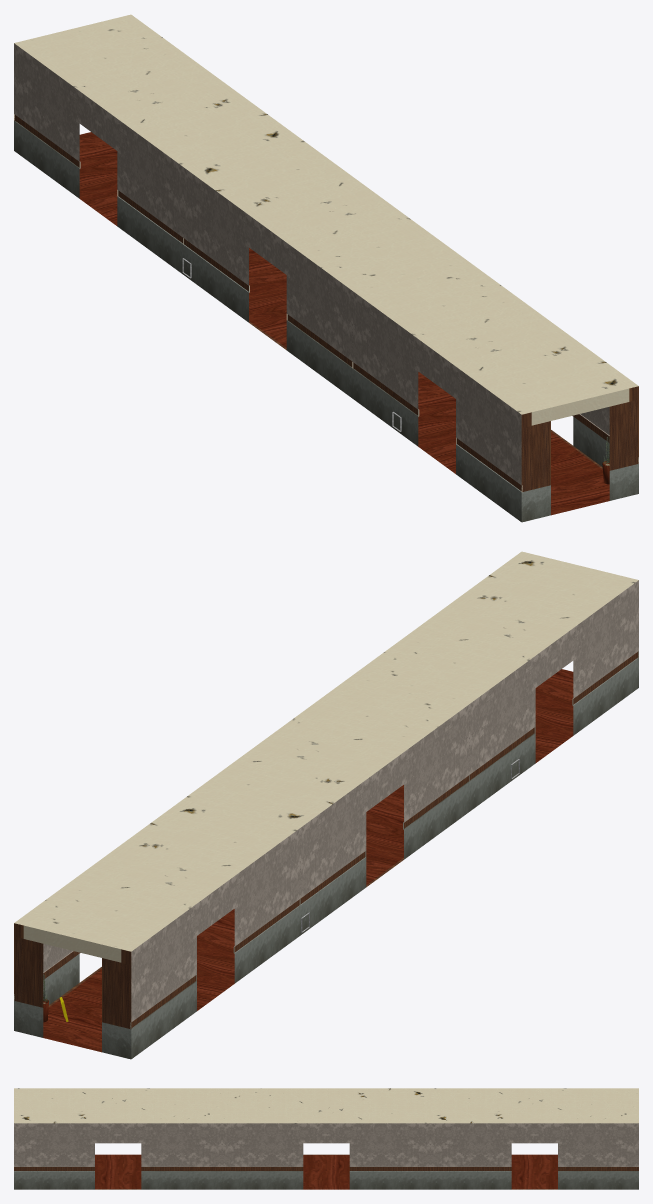
The model's file is hotel_hallway.glb.
3 renders of one model, top to bottom at view 1: azimuth 30°, elevation 25°; view 2: azimuth 150°, elevation 25°; view 3: azimuth 270°, elevation 25°, orthographic. The views are drawn at different scales.
Visible parts, largest first — view 1: HallWayFrame_3, Doorframe_B_6, RoofTop_4; view 2: HallWayFrame_3, Doorframe_E_5, RoofTop_4; view 3: HallWayFrame_3.
Boxes of the visible parts, left/top/right/bottom form: HallWayFrame_3: left=14, top=14, right=638, bottom=521; Doorframe_B_6: left=521, top=399, right=638, bottom=522; RoofTop_4: left=521, top=386, right=638, bottom=427; HallWayFrame_3: left=14, top=551, right=638, bottom=1058; Doorframe_E_5: left=14, top=936, right=131, bottom=1059; RoofTop_4: left=14, top=923, right=131, bottom=964; HallWayFrame_3: left=14, top=1088, right=638, bottom=1189.
Size of the model in its own units: 4.04 by 3.53 by 30.
Materials: 2 (2 with a texture image).
